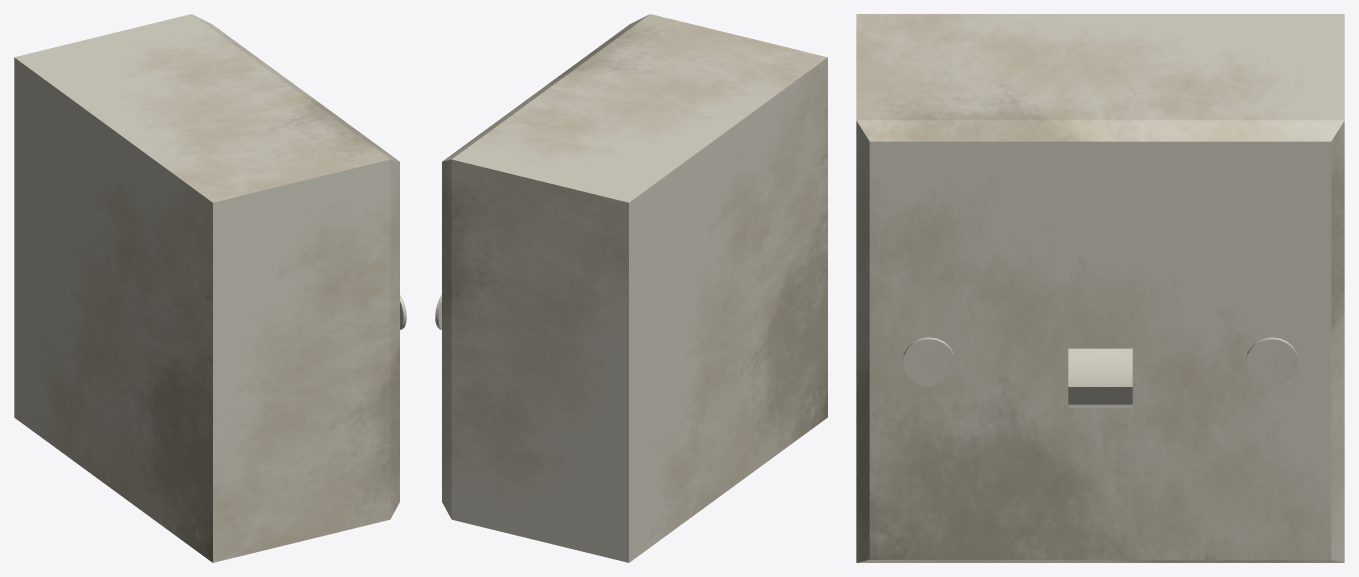
The model's file is switch1.fbx.
The picture shows the model from 3 angles, left to right: view 1: azimuth 30°, elevation 25°; view 2: azimuth 150°, elevation 25°; view 3: azimuth 270°, elevation 25°; orthographic projection. The views are drawn at different scales.
Visible parts, largest first — view 1: switch1_pCylinder14; view 2: switch1_pCylinder14; view 3: switch1_pCylinder14, pCube91.
Boxes of the visible parts, <box> form: switch1_pCylinder14: <box>14,14,406,562</box>; switch1_pCylinder14: <box>435,14,827,562</box>; switch1_pCylinder14: <box>856,14,1344,562</box>; pCube91: <box>1068,348,1132,407</box>.
Bounding box in the file's own units: 5.48 × 7.25 × 7.25.
